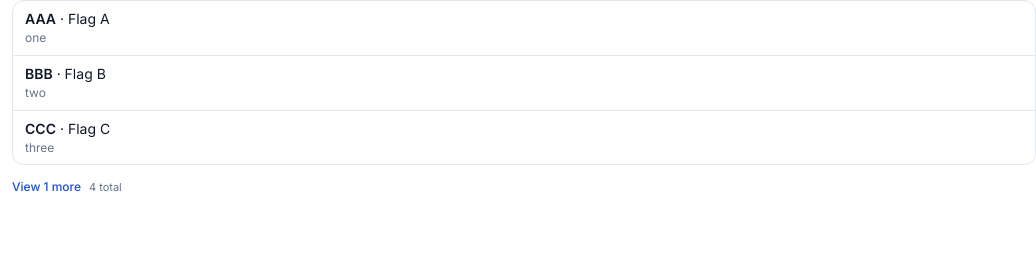
it: RiskAttentionList compression › with exactly 4 groups shows 3 then View 1 more and 4 total
This screenshot has width=1036, height=275.
Expected: the text "AAA" is shown, [25,10,56,27]
Expected: the text "CCC" is shown, [25,120,56,136]
What coordinates should you click on to do the following:
click the button "View 1 more"
I would click on:
 (47, 187)
Its box is [12,171,81,203].
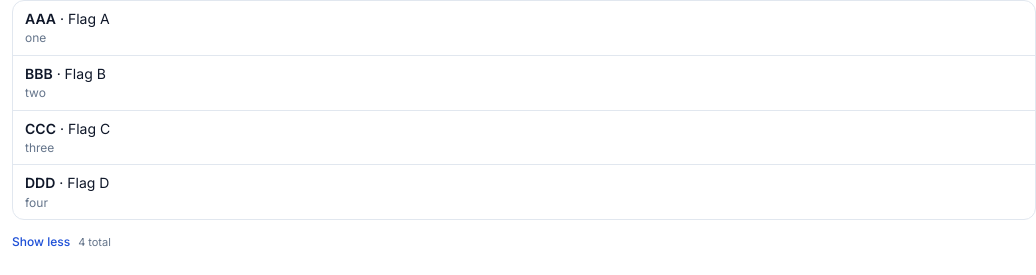
Expected: the text "4 total" is shown, [78,234,111,250]
Expected: the text "DDD" is shown, [25,174,55,191]
What coordinates should you click on to do the following:
click the button "Show less"
I would click on:
 (41, 242)
Its box is [12,226,70,258].
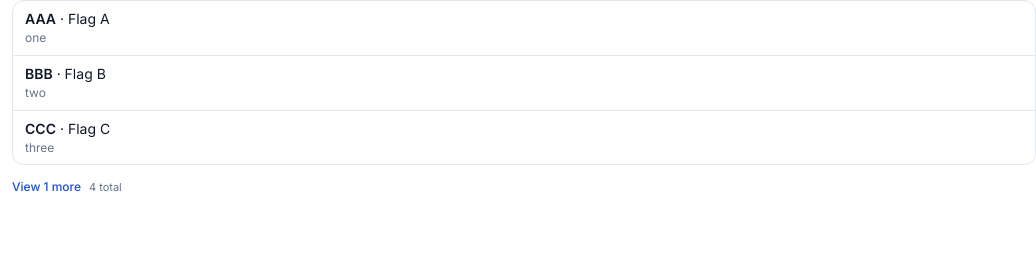
Expected: the link "DDD" is gone
Expected: the button "View 1 more" is shown, [12,171,81,203]
